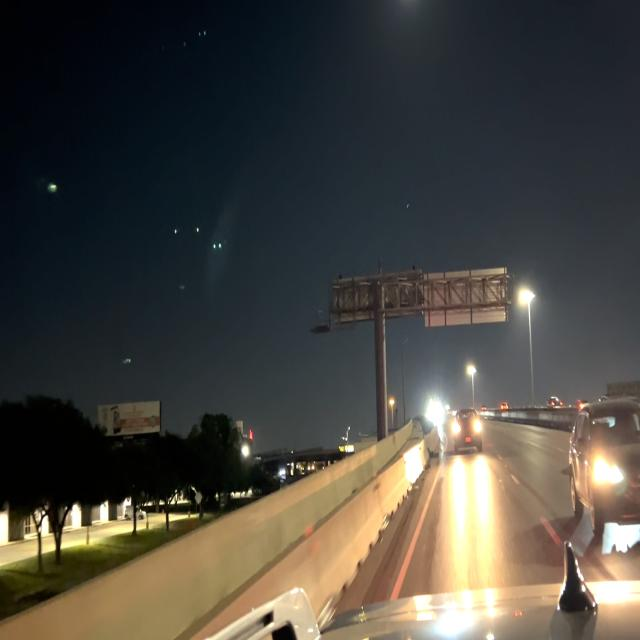back-of-sign: (421, 264, 510, 333)
